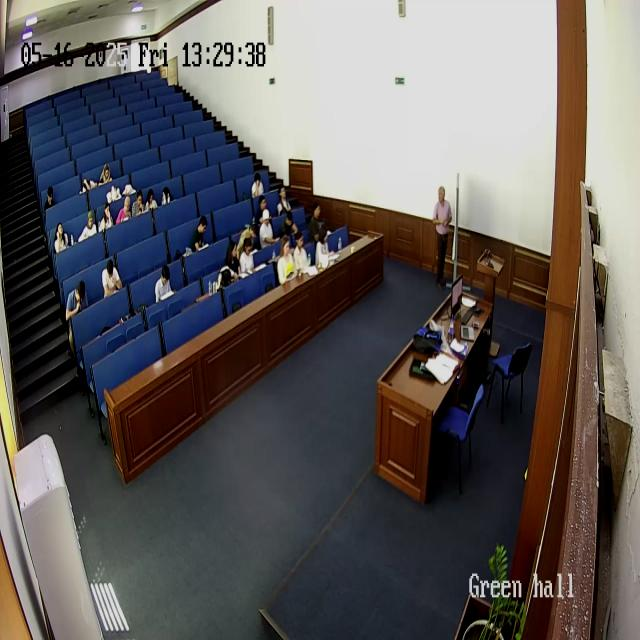person: (432, 185, 452, 287), (66, 281, 88, 367), (276, 236, 298, 286), (220, 238, 240, 284), (292, 230, 310, 276), (102, 260, 123, 298), (238, 236, 256, 280), (153, 266, 174, 303), (190, 215, 210, 253), (313, 228, 331, 270), (258, 207, 276, 247), (234, 219, 257, 250), (308, 202, 325, 242), (78, 209, 98, 243), (281, 209, 299, 243), (53, 222, 70, 255), (98, 198, 114, 232), (276, 184, 292, 216), (116, 193, 132, 225), (130, 191, 146, 219), (250, 172, 264, 201), (44, 185, 56, 215), (105, 182, 121, 204), (80, 173, 96, 194), (98, 164, 112, 186), (146, 188, 158, 212), (123, 179, 137, 197), (160, 187, 172, 207)
